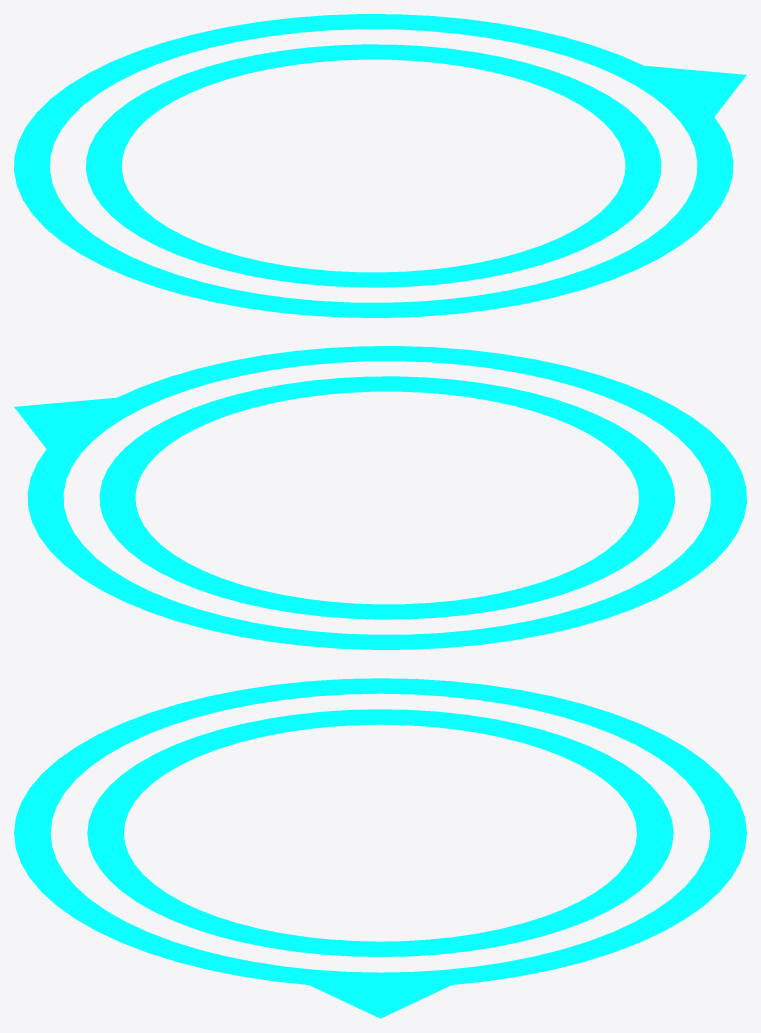
File: teleport_target.glb
The picture shows the model from 3 angles, top to bottom: view 1: azimuth 30°, elevation 25°; view 2: azimuth 150°, elevation 25°; view 3: azimuth 270°, elevation 25°; orthographic projection.
Parts seen in each view (by area): view 1: Circle; view 2: Circle; view 3: Circle.
Boxes of the visible parts, x1=… form: Circle: x1=14, y1=14, x2=746, y2=317; Circle: x1=14, y1=346, x2=746, y2=649; Circle: x1=14, y1=678, x2=746, y2=1018.
Bounding box in the file's own units: 2.2 × 0 × 2.
